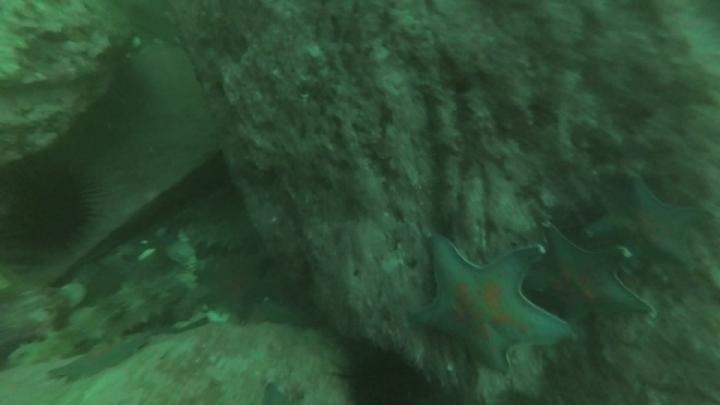echinus: (1, 155, 100, 260), (335, 342, 437, 405)
holothurian: (6, 275, 185, 370), (62, 276, 184, 347), (5, 318, 108, 371), (177, 216, 260, 259)
starfish: (405, 228, 574, 376), (523, 222, 653, 330), (584, 172, 707, 275), (194, 247, 277, 319), (47, 335, 149, 385)
